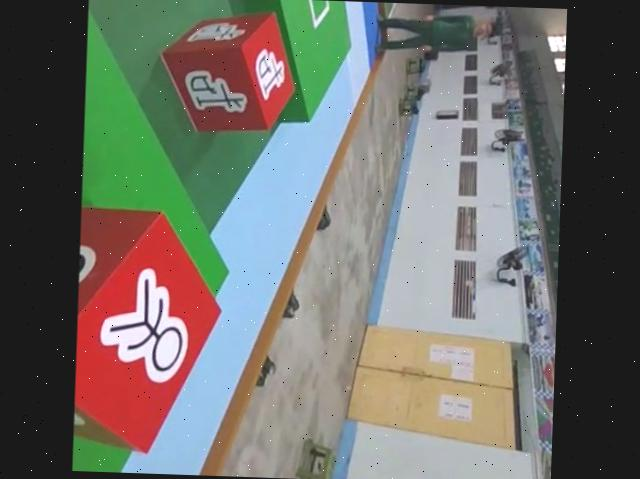R2 Real: (74, 205, 227, 454), (160, 8, 297, 135)
